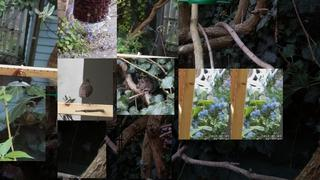mouse: (136, 78, 154, 95)
robin: (79, 78, 93, 106)
